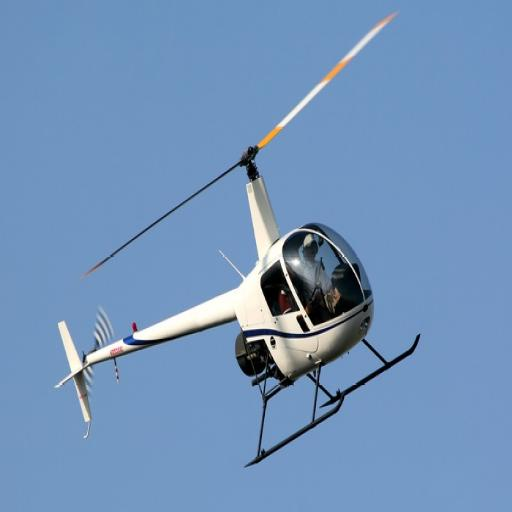helicopter: (55, 11, 422, 470)
